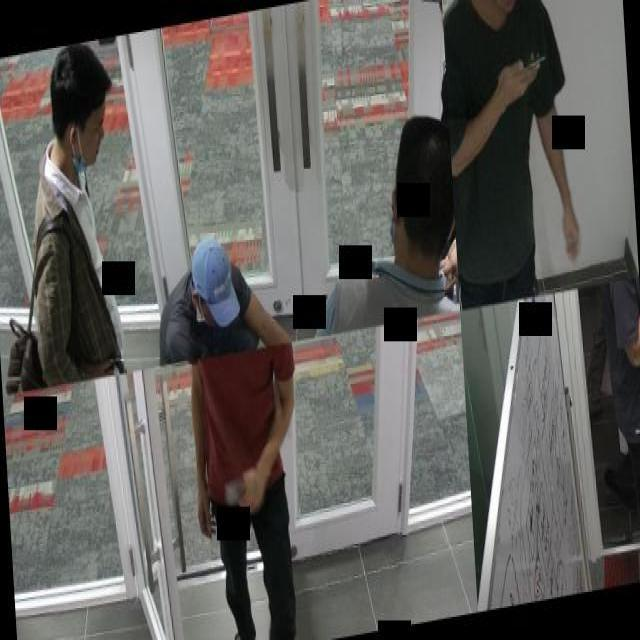hairnet: (72, 104, 107, 174)
